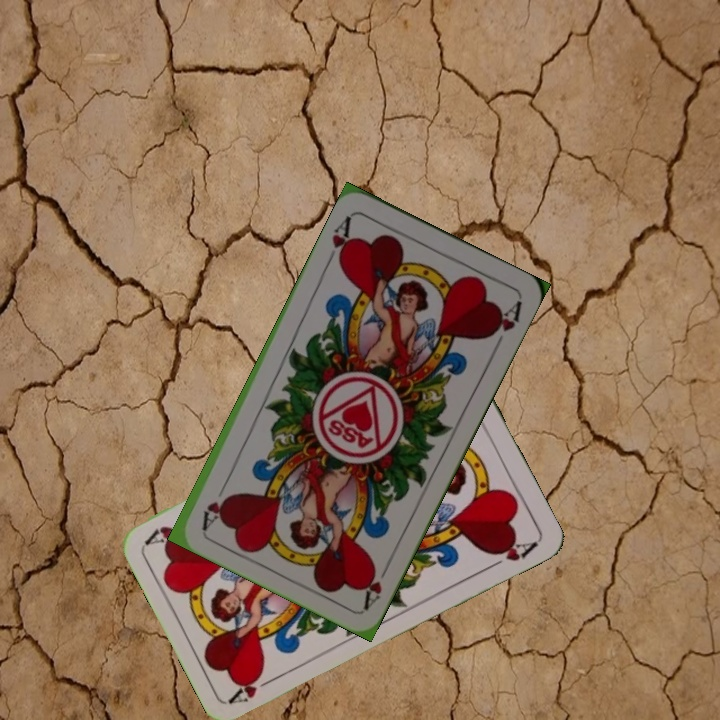HA: (226, 668, 282, 707), (358, 555, 394, 611), (323, 211, 356, 269)
